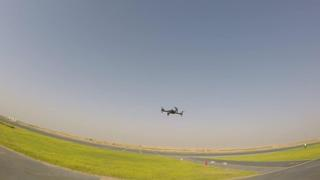UAV: (160, 107, 185, 117)
